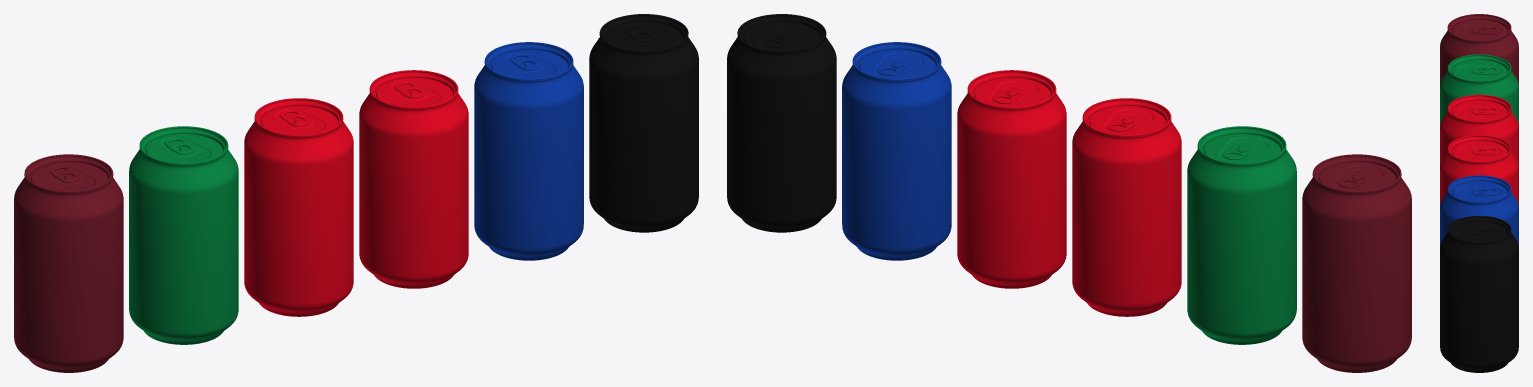
Rendered from All Six Soda Cans.fbx.
3 views of the same model, side by side, from view 1: azimuth 30°, elevation 25°; view 2: azimuth 150°, elevation 25°; view 3: azimuth 270°, elevation 25° (orthographic). The views are drawn at different scales.
Visible parts, largest first — view 1: Sprite.001, Coca-Cola_Zero_Sugar, Pepsi_Zero_Sugar, Dr_Pepper, Coca-Cola.001, Pepsi.001; view 2: Sprite.001, Coca-Cola.001, Dr_Pepper, Pepsi_Zero_Sugar, Coca-Cola_Zero_Sugar, Pepsi.001; view 3: Pepsi_Zero_Sugar, Sprite.001, Pepsi.001, Coca-Cola_Zero_Sugar, Coca-Cola.001, Dr_Pepper, Dr_Pepper_PullTab, Pepsi_PullTab, Sprite_PullTab, Pepsi_Zero_Sugar_PullTab, Coca-Cola_Zero_Sugar_PullTab, Coca-Cola_PullTab.
Part boxes in pixels (<box>): Sprite.001: <box>129,126,238,344</box>; Coca-Cola_Zero_Sugar: <box>359,70,468,288</box>; Pepsi_Zero_Sugar: <box>589,14,698,232</box>; Dr_Pepper: <box>14,154,123,372</box>; Coca-Cola.001: <box>244,98,353,316</box>; Pepsi.001: <box>474,42,583,260</box>; Sprite.001: <box>1187,126,1296,344</box>; Coca-Cola.001: <box>1072,98,1181,316</box>; Dr_Pepper: <box>1302,154,1411,372</box>; Pepsi_Zero_Sugar: <box>727,14,836,232</box>; Coca-Cola_Zero_Sugar: <box>957,70,1066,288</box>; Pepsi.001: <box>842,42,951,260</box>; Pepsi_Zero_Sugar: <box>1440,215,1518,372</box>; Sprite.001: <box>1440,54,1518,125</box>; Pepsi.001: <box>1440,175,1518,246</box>; Coca-Cola_Zero_Sugar: <box>1440,135,1518,206</box>; Coca-Cola.001: <box>1440,94,1518,166</box>; Dr_Pepper: <box>1440,14,1518,85</box>; Dr_Pepper_PullTab: <box>1472,26,1498,34</box>; Pepsi_PullTab: <box>1472,188,1498,195</box>; Sprite_PullTab: <box>1472,67,1498,74</box>; Pepsi_Zero_Sugar_PullTab: <box>1472,228,1498,236</box>; Coca-Cola_Zero_Sugar_PullTab: <box>1472,148,1498,155</box>; Coca-Cola_PullTab: <box>1472,107,1498,114</box>.
Bounding box in the file's own units: 46.6 × 12.22 × 6.6.
